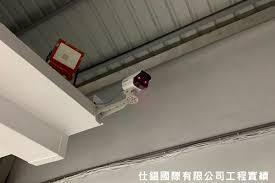Monitor: (111, 64, 171, 115)
